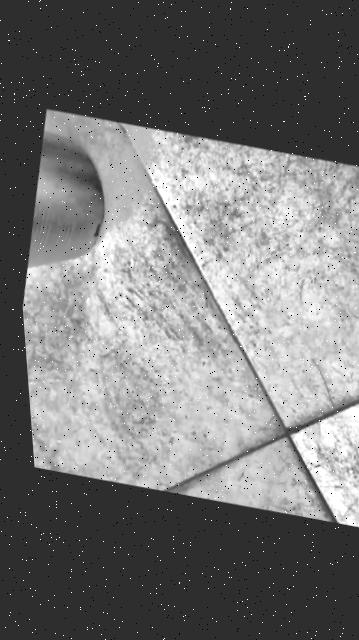pot: (10, 113, 126, 308)
